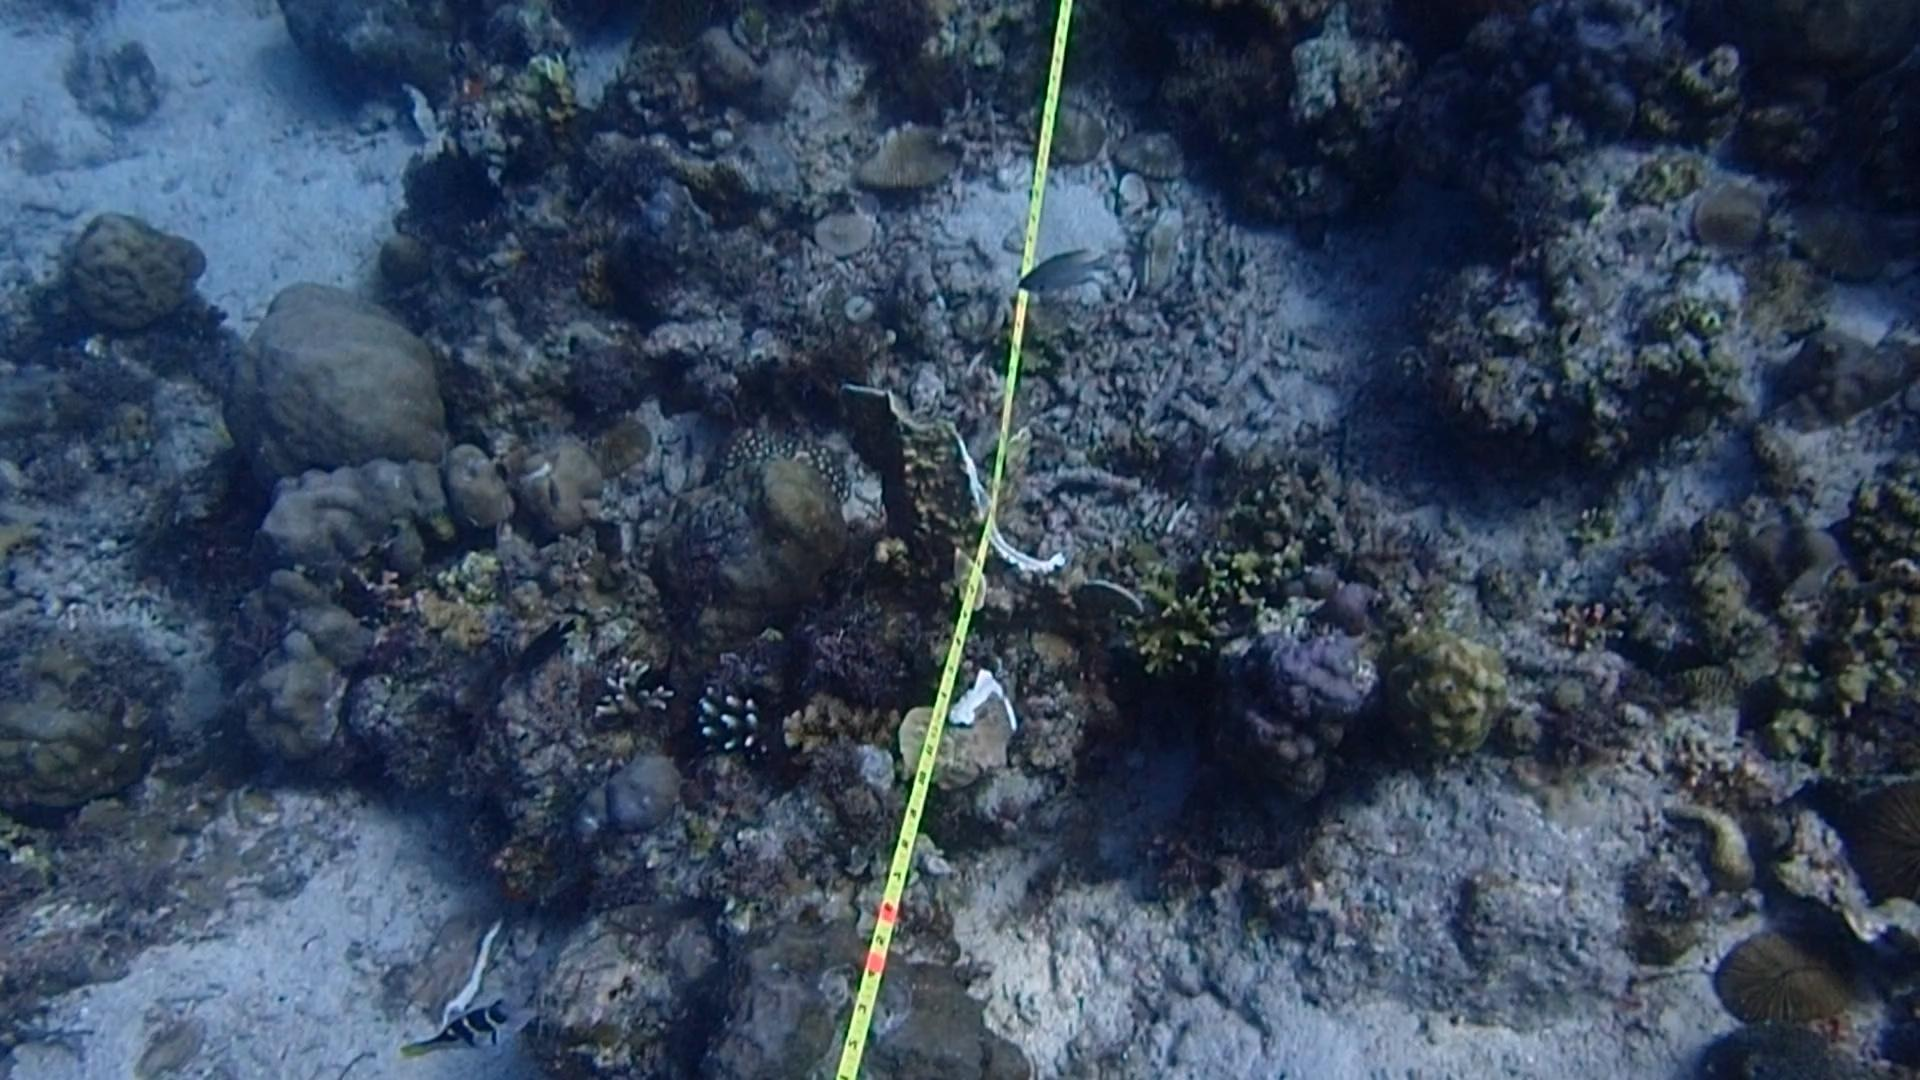Striped Fish: (406, 985, 522, 1071)
